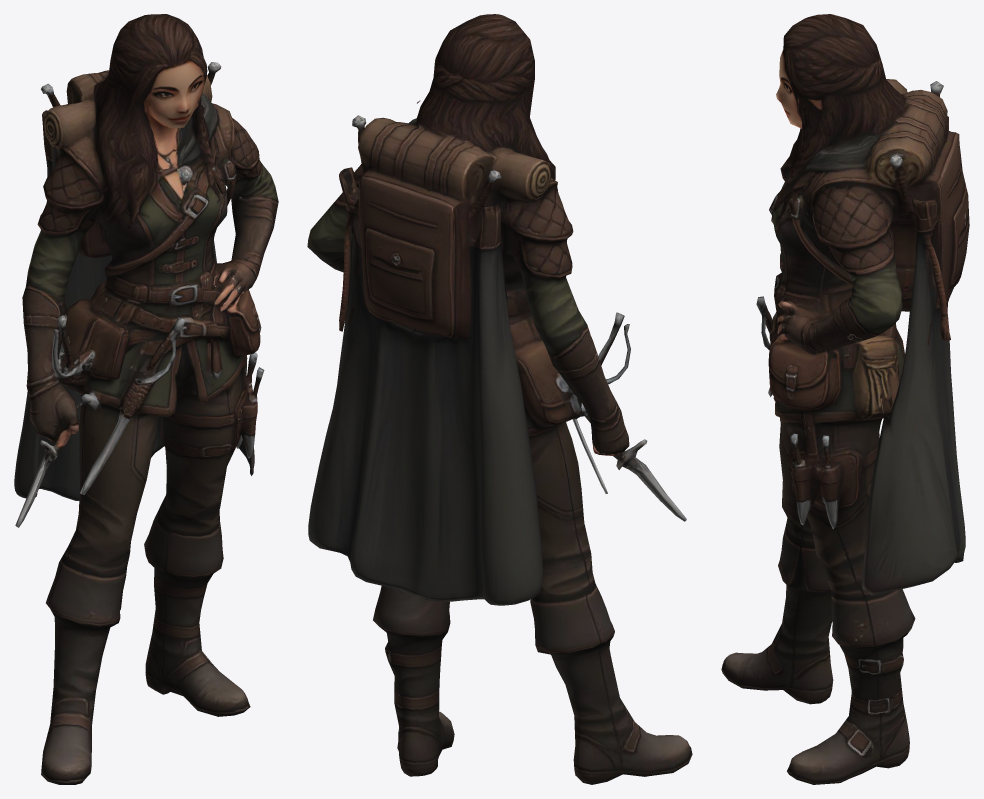
The model's file is Ladina.glb.
3 renders of one model, left to right at view 1: azimuth 30°, elevation 25°; view 2: azimuth 150°, elevation 25°; view 3: azimuth 270°, elevation 25°, orthographic. The views are drawn at different scales.
Visible parts, largest first — view 1: tripo_node_21da6938-d145-4055-b9f5-399c822a83d2; view 2: tripo_node_21da6938-d145-4055-b9f5-399c822a83d2; view 3: tripo_node_21da6938-d145-4055-b9f5-399c822a83d2.
Part boxes in pixels (<box>): tripo_node_21da6938-d145-4055-b9f5-399c822a83d2: <box>14,14,278,784</box>; tripo_node_21da6938-d145-4055-b9f5-399c822a83d2: <box>307,14,692,784</box>; tripo_node_21da6938-d145-4055-b9f5-399c822a83d2: <box>721,14,969,784</box>.
Bounding box in the file's own units: 0.4559 × 0.998 × 0.3077.
1 material, 1 textured.
